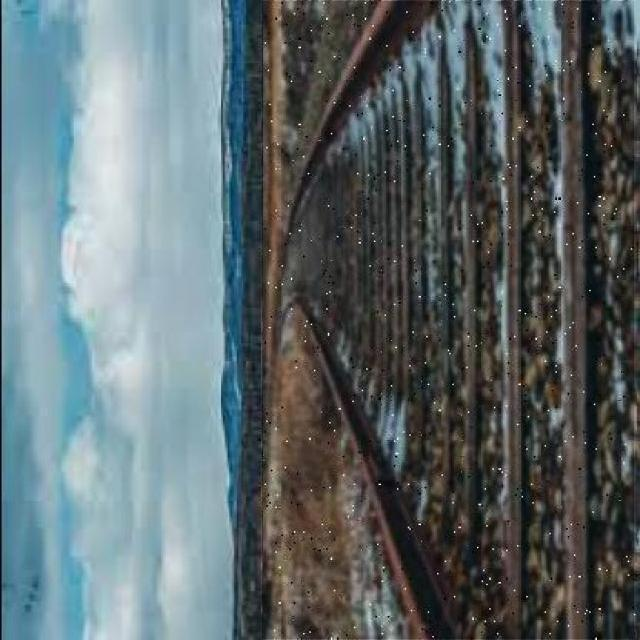rail: (263, 2, 635, 640)
